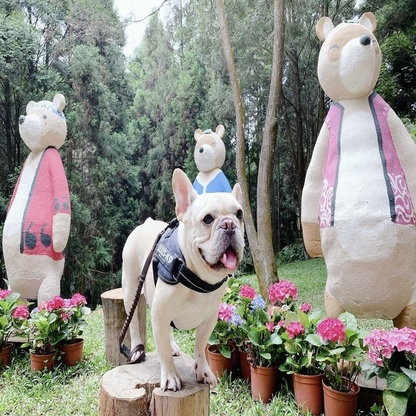bulldog: (119, 167, 246, 393)
